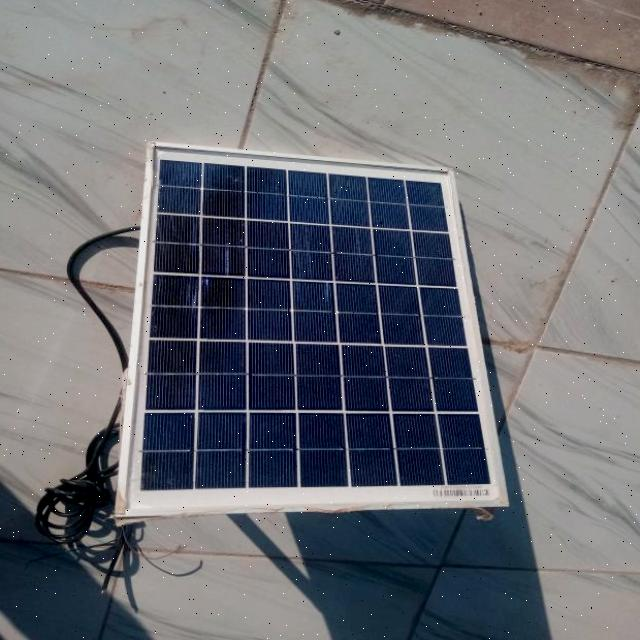Normal Solar Panel: (118, 145, 510, 515)
